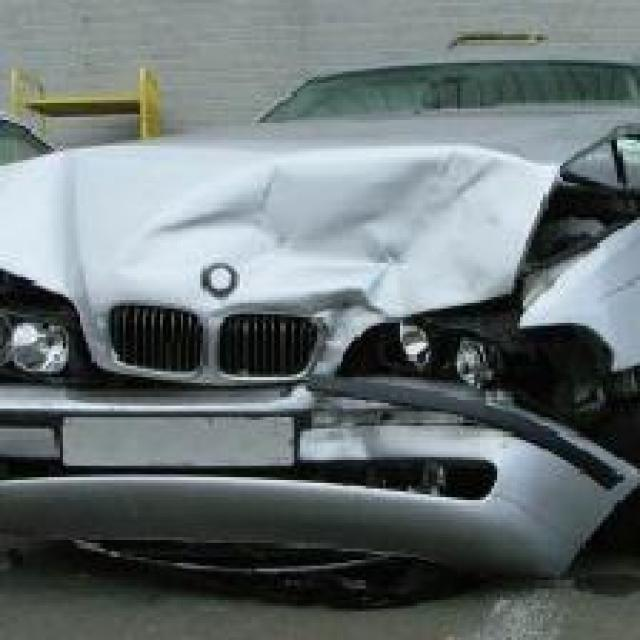damaged: (8, 142, 638, 588)
